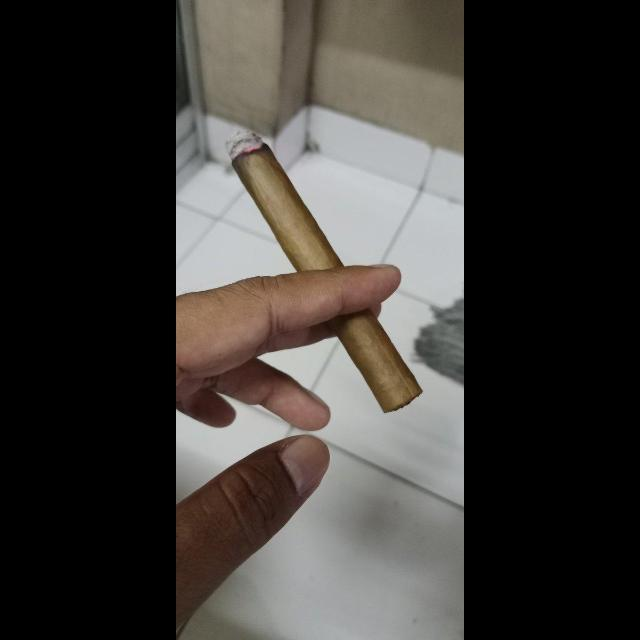rokok: (224, 127, 428, 417)
